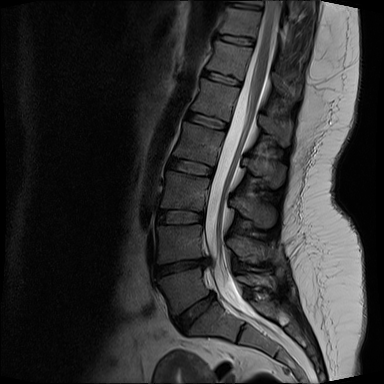Lumbar Disc Bulge LDB: (163, 283, 222, 339), (150, 254, 216, 284)
Normal IVD: (162, 152, 217, 179), (180, 107, 232, 133), (152, 205, 208, 228), (198, 65, 245, 90), (214, 31, 257, 49)
Spinal Stenosis SS: (194, 254, 216, 272), (201, 285, 219, 306)
